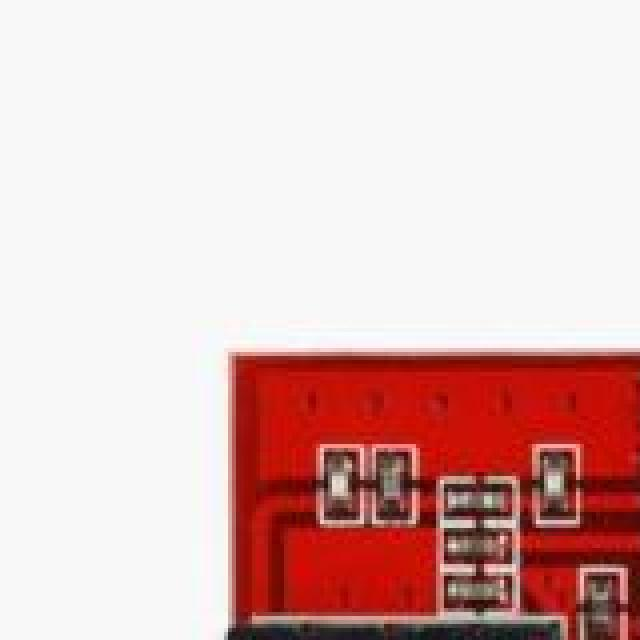capacitor: (448, 484, 512, 518), (452, 540, 508, 568), (456, 576, 512, 604), (324, 460, 356, 506), (380, 460, 404, 520), (588, 580, 614, 634), (544, 468, 568, 518)
connector: (204, 624, 564, 640)
